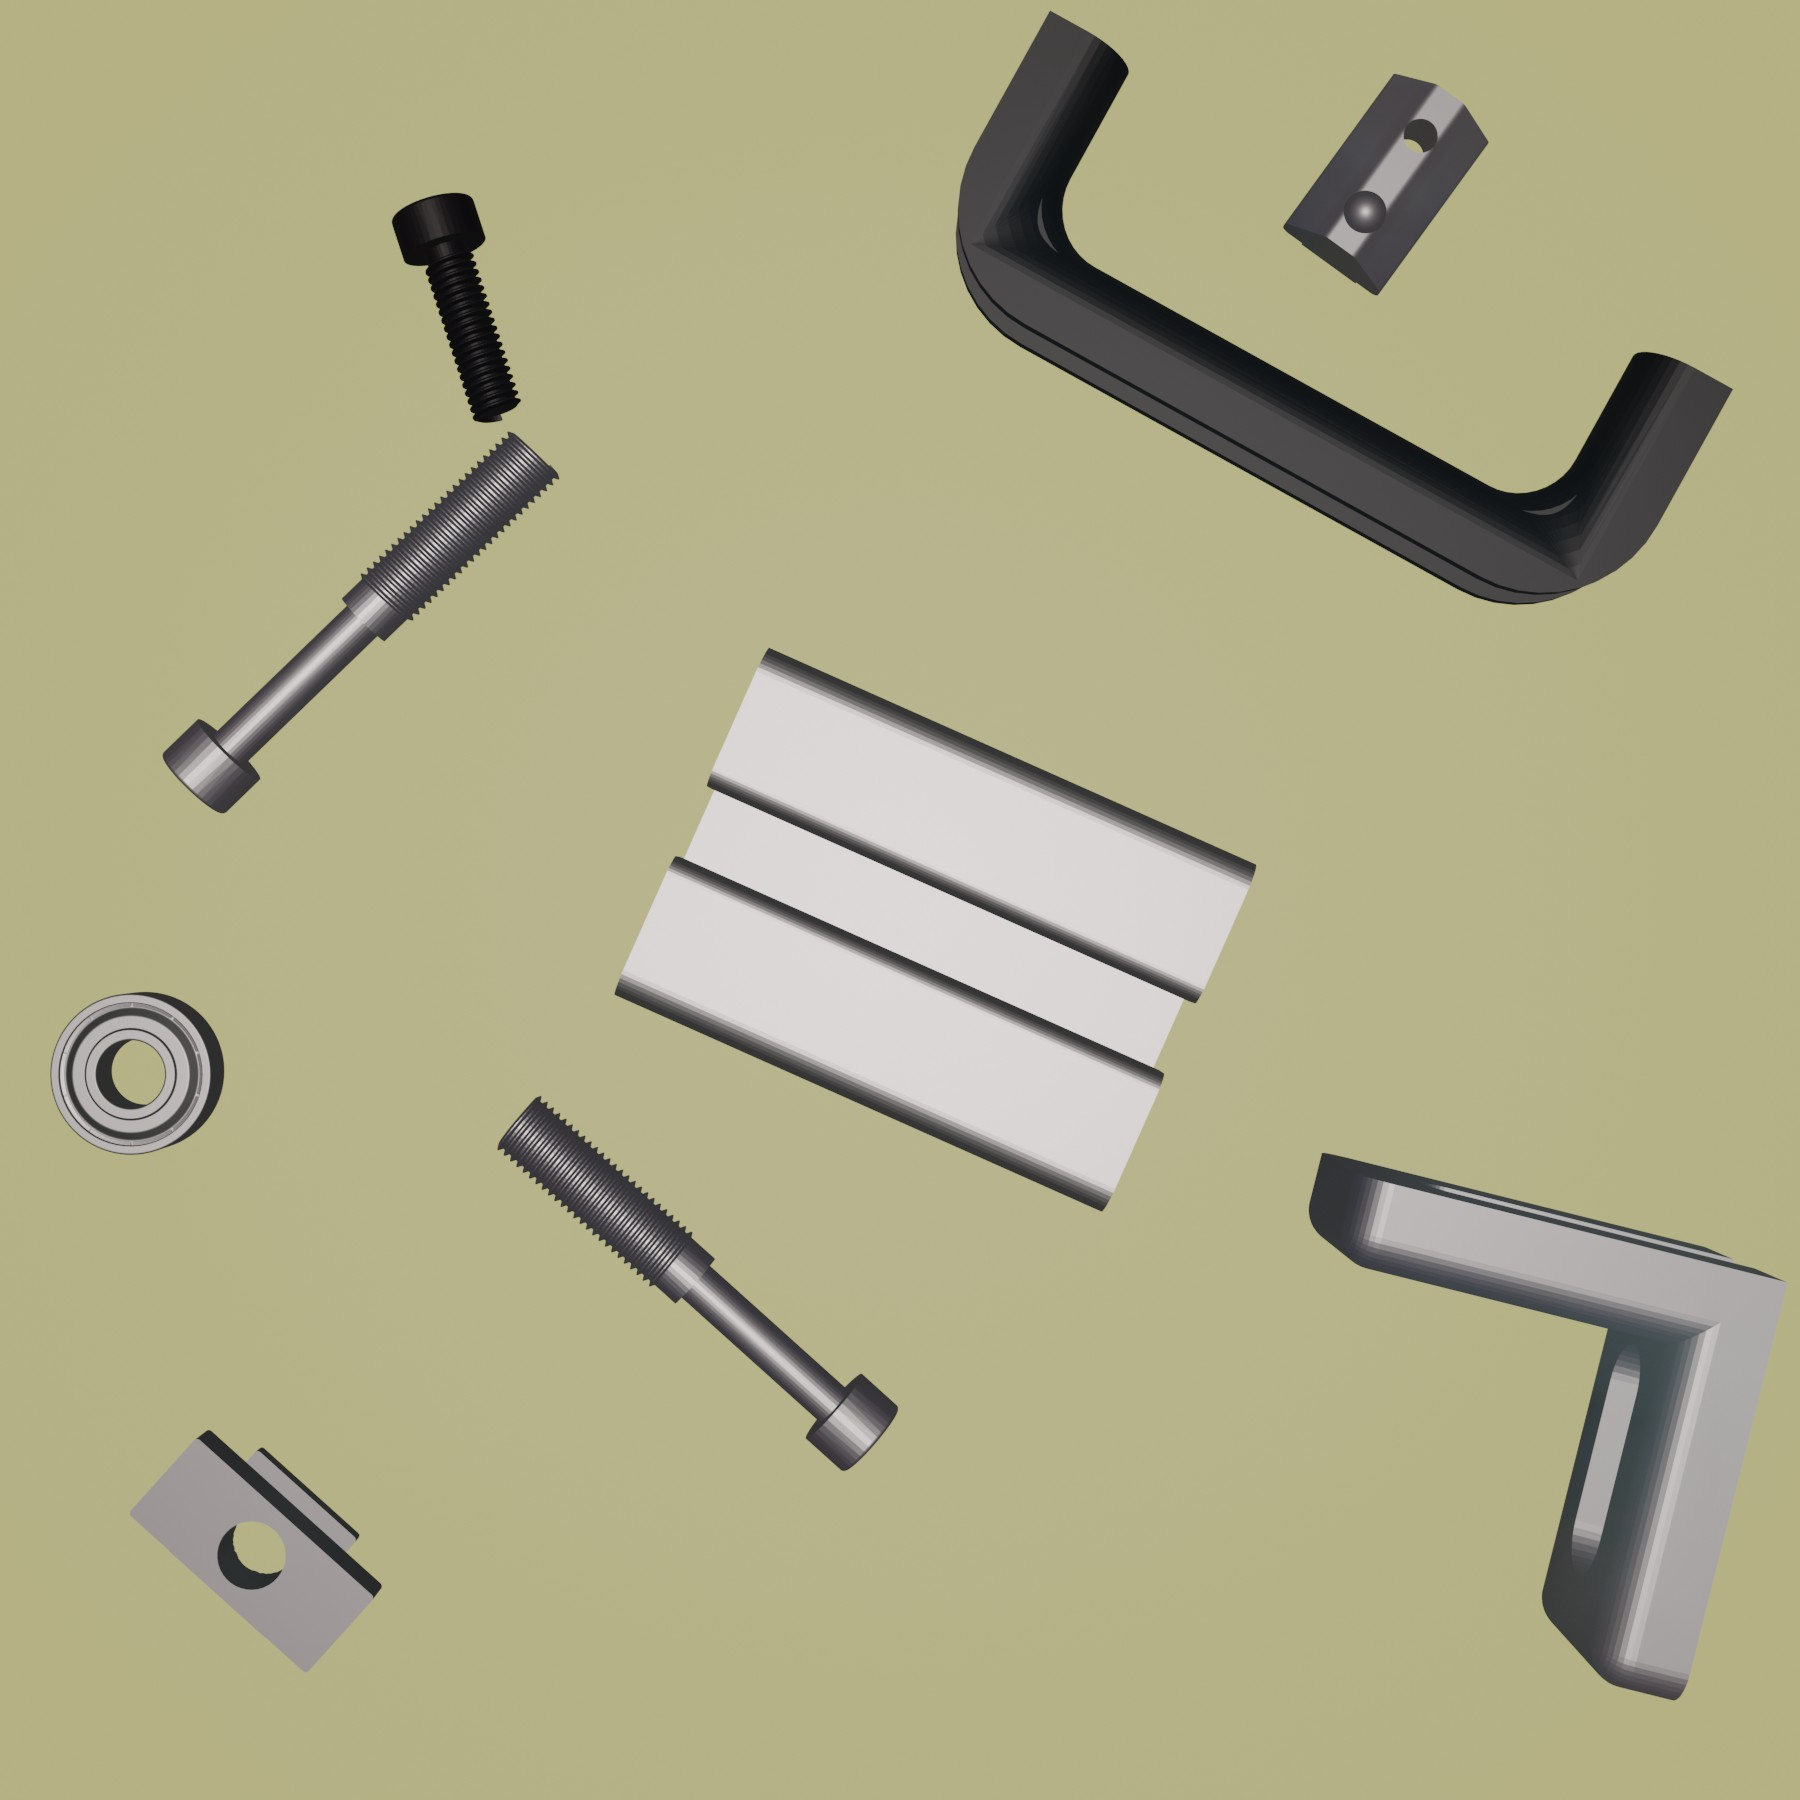Aluminium Extension: (608, 646, 1259, 1215)
Ball Bearing: (48, 986, 227, 1157)
Multiwinkel: (1305, 1149, 1788, 1703)
Pull Handle: (953, 8, 1736, 607)
Shoulder Socket Head Cap Screw: (490, 1091, 902, 1474), (158, 430, 560, 814)
Socket Head Cap Screw: (387, 190, 521, 425)
T Nut Square: (125, 1424, 386, 1676)
T Spring Nut: (1281, 69, 1490, 297)
